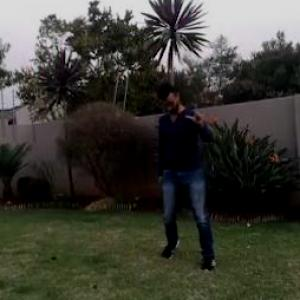land_hand: (186, 99, 212, 128)
